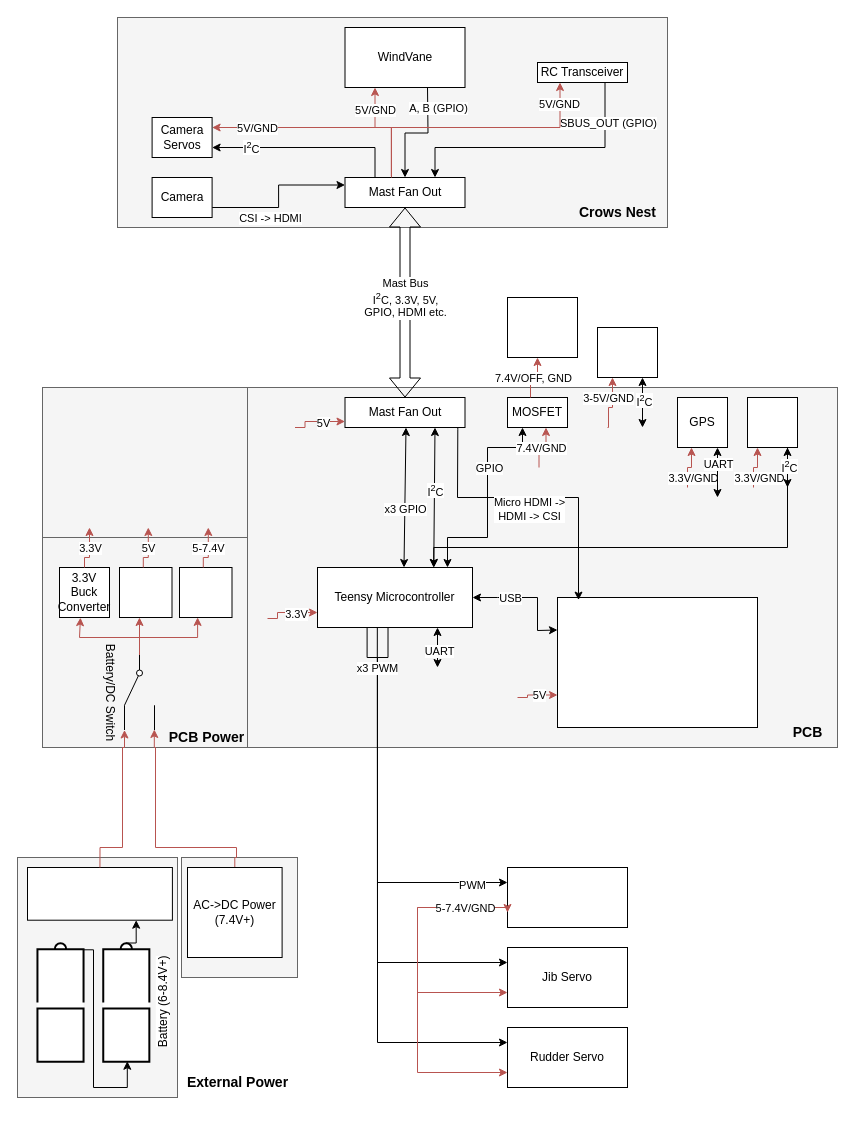
Image size: 855x1125. Some labels were removed from this diagram. Here are the shapes that lost their labels. From the top down, the centre of each, then its label:
(542,327): Bilge Pump
(627,352): Water Level Sensor
(772,422): IMU
(145,592): 5V Buck Converter
(205,592): 7.4V Buck Converter
(657,662): Pi5
(99,893): 2S BMS/Balance Charger
(567,897): Sail Servo
